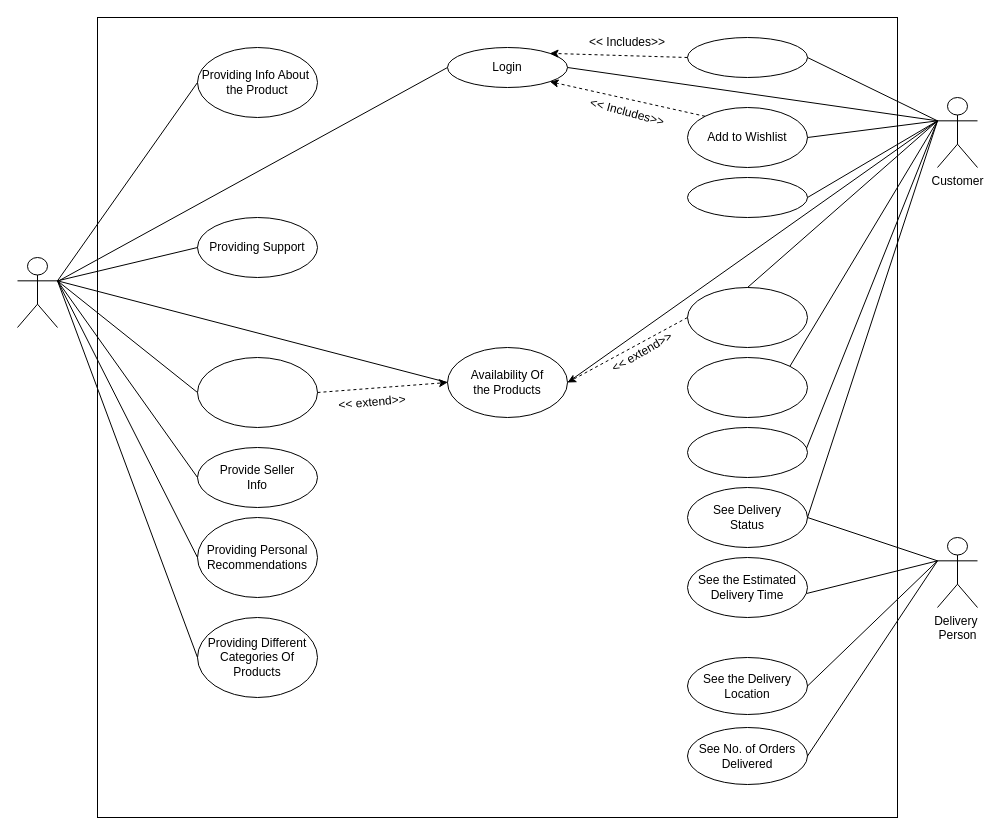
Image size: 1001x835. Some labels were removed from this diagram. Here are the shapes that lost their labels. From the top down, the centre of each, then its label:
At [747,57]: "Add to Cart".
At [747,197]: "Search Bar Access".
At [37,292]: "Admin".
At [747,317]: "See Products On Sale".
At [257,392]: "Sponser Products".
At [747,387]: "See Trems & Services".
At [747,452]: "Choose Location".
